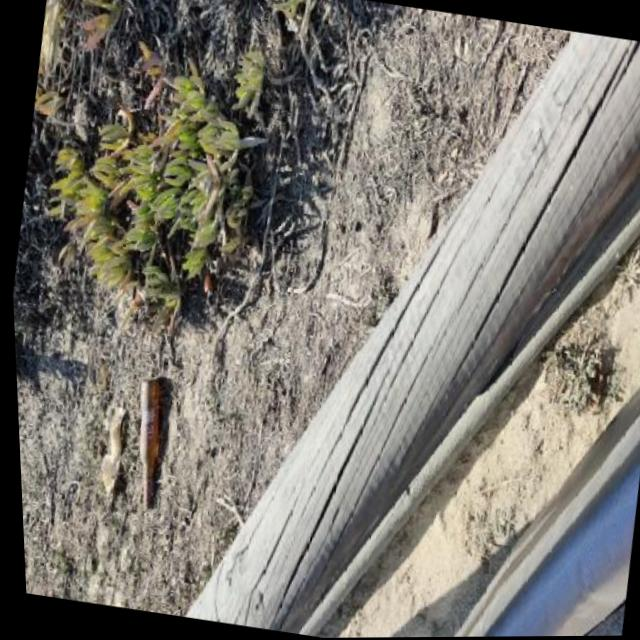glass: (121, 374, 172, 512)
